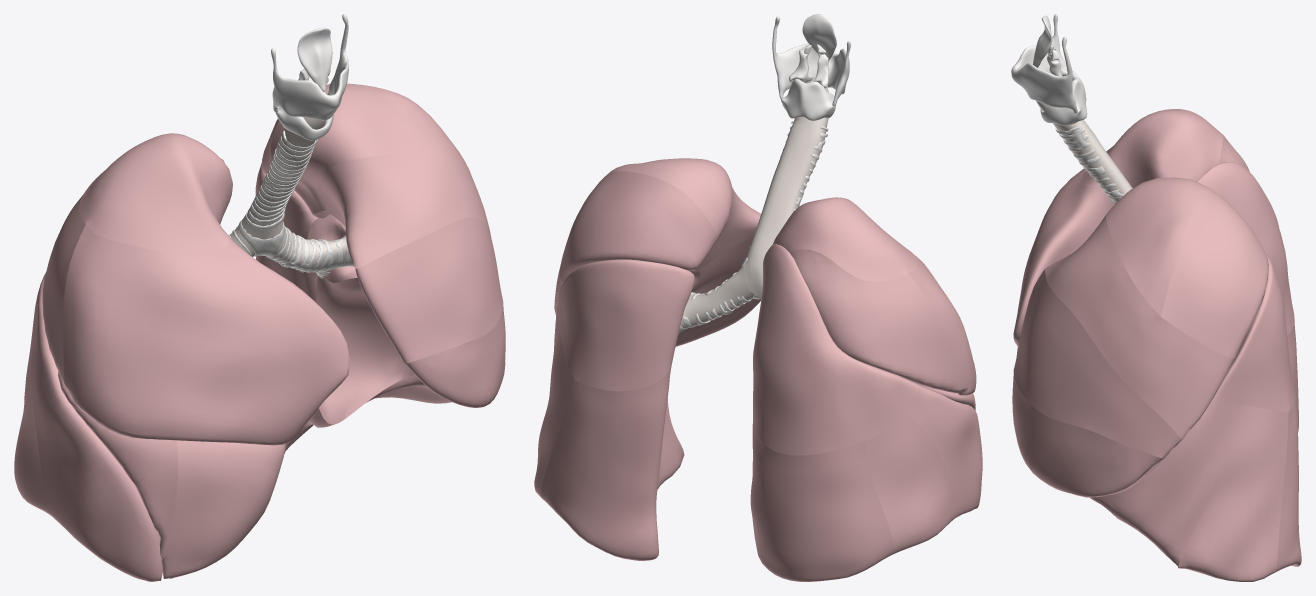
The model's file is VH_F_Lung.glb.
3 renders of one model, left to right at view 1: azimuth 30°, elevation 25°; view 2: azimuth 150°, elevation 25°; view 3: azimuth 270°, elevation 25°, orthographic. The views are drawn at different scales.
Visible parts, largest first — view 1: VH_F_right_anterior_bronchopulmonary_segm, VH_F_right_anterior_basal_bronchopulmonary_segment, VH_F_lingula_superior_bronchopulmonary_segment, VH_F_right_apical_bronchopulmonary_segment, VH_F_left_anterior_bronchopulmonary_segment, VH_F_right_medial_bronchopulmonary_segment, VH_F_left_apical_bronchopulmonary_segment, VH_F_left_medial_basal_bronchopulmonary_segment, VH_F_lingula_inferior_bronchopulmonary_segment, VH_F_right_lateral_bronchopulmonary_segmennt, VH_F_right_posterior_bronchopulmonary_segment, VH_F_thyroid_cartilage (+13 smaller); view 2: VH_F_right_superior_bronchopulmonary_segment, VH_F_left_posterior_basal_bronchopulmonary_segment, VH_F_right_posterior_basal_bronchopulmonary_segment, VH_F_left_superior_bronchopulmonary_segment, VH_F_right_posterior_bronchopulmonary_segment, VH_F_left_posterior_bronchopulmonary_segment, VH_F_right_lateral_basal_bronchopulmonary_segment, VH_F_right_apical_bronchopulmonary_segment, VH_F_right_anterior_basal_bronchopulmonary_segment, VH_F_trachea, VH_F_left_apical_bronchopulmonary_segment, VH_F_right_anterior_bronchopulmonary_segm (+9 smaller); view 3: VH_F_left_anterior_bronchopulmonary_segment, VH_F_lingula_superior_bronchopulmonary_segment, VH_F_left_lateral_basal_bronchopulmonary_segment, VH_F_left_posterior_bronchopulmonary_segment, VH_F_left_anterior_basal_bronchopulmonary_segment, VH_F_lingula_inferior_bronchopulmonary_segment, VH_F_left_apical_bronchopulmonary_segment, VH_F_right_apical_bronchopulmonary_segment, VH_F_left_superior_bronchopulmonary_segment, VH_F_right_anterior_bronchopulmonary_segm, VH_F_right_superior_bronchopulmonary_segment, VH_F_thyroid_cartilage (+7 smaller).
Part boxes in pixels (<box>): VH_F_right_anterior_bronchopulmonary_segm: <box>63,224,349,445</box>; VH_F_right_anterior_basal_bronchopulmonary_segment: <box>31,328,162,581</box>; VH_F_lingula_superior_bronchopulmonary_segment: <box>355,217,503,363</box>; VH_F_right_apical_bronchopulmonary_segment: <box>79,133,232,257</box>; VH_F_left_anterior_bronchopulmonary_segment: <box>320,146,488,268</box>; VH_F_right_medial_bronchopulmonary_segment: <box>160,440,285,578</box>; VH_F_left_apical_bronchopulmonary_segment: <box>270,83,458,211</box>; VH_F_left_medial_basal_bronchopulmonary_segment: <box>316,276,414,424</box>; VH_F_lingula_inferior_bronchopulmonary_segment: <box>405,304,505,407</box>; VH_F_right_lateral_bronchopulmonary_segmennt: <box>58,371,178,555</box>; VH_F_right_posterior_bronchopulmonary_segment: <box>42,195,85,386</box>; VH_F_thyroid_cartilage: <box>271,14,348,120</box>; VH_F_right_superior_bronchopulmonary_segment: <box>753,244,918,455</box>; VH_F_left_posterior_basal_bronchopulmonary_segment: <box>540,366,684,560</box>; VH_F_right_posterior_basal_bronchopulmonary_segment: <box>750,418,893,581</box>; VH_F_left_superior_bronchopulmonary_segment: <box>557,259,694,391</box>; VH_F_right_posterior_bronchopulmonary_segment: <box>790,249,960,392</box>; VH_F_left_posterior_bronchopulmonary_segment: <box>560,171,716,282</box>; VH_F_right_lateral_basal_bronchopulmonary_segment: <box>865,413,955,554</box>; VH_F_right_apical_bronchopulmonary_segment: <box>772,197,917,281</box>; VH_F_right_anterior_basal_bronchopulmonary_segment: <box>907,384,982,517</box>; VH_F_trachea: <box>743,87,828,298</box>; VH_F_left_apical_bronchopulmonary_segment: <box>606,158,732,240</box>; VH_F_right_anterior_bronchopulmonary_segm: <box>908,254,976,395</box>; VH_F_left_anterior_bronchopulmonary_segment: <box>1045,215,1235,439</box>; VH_F_lingula_superior_bronchopulmonary_segment: <box>1013,269,1182,458</box>; VH_F_left_lateral_basal_bronchopulmonary_segment: <box>1178,405,1288,581</box>; VH_F_left_posterior_bronchopulmonary_segment: <box>1161,188,1268,358</box>; VH_F_left_anterior_basal_bronchopulmonary_segment: <box>1089,400,1243,567</box>; VH_F_lingula_inferior_bronchopulmonary_segment: <box>1012,372,1163,497</box>; VH_F_left_apical_bronchopulmonary_segment: <box>1106,177,1210,316</box>; VH_F_right_apical_bronchopulmonary_segment: <box>1081,109,1223,187</box>; VH_F_left_superior_bronchopulmonary_segment: <box>1211,256,1295,412</box>; VH_F_right_anterior_bronchopulmonary_segm: <box>1013,168,1114,347</box>; VH_F_right_superior_bronchopulmonary_segment: <box>1197,162,1294,335</box>; VH_F_thyroid_cartilage: <box>1011,14,1077,113</box>.
Bounding box in the file's own units: 0.2511 × 0.2968 × 0.1531.
